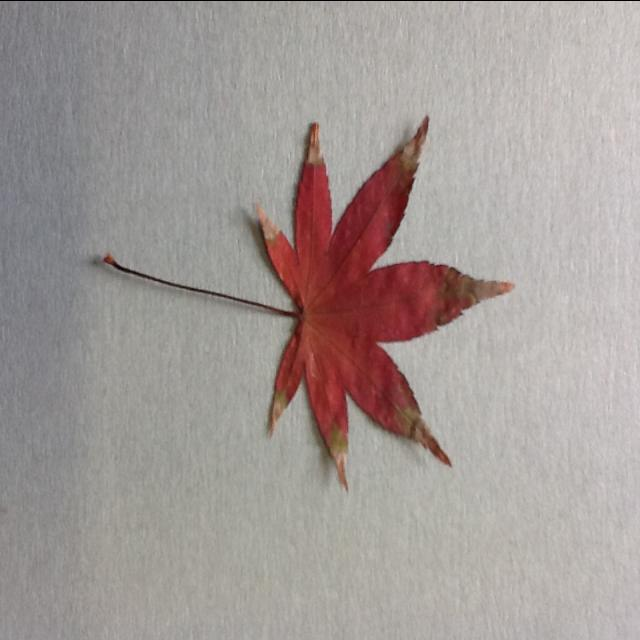foliage: (100, 115, 516, 489)
